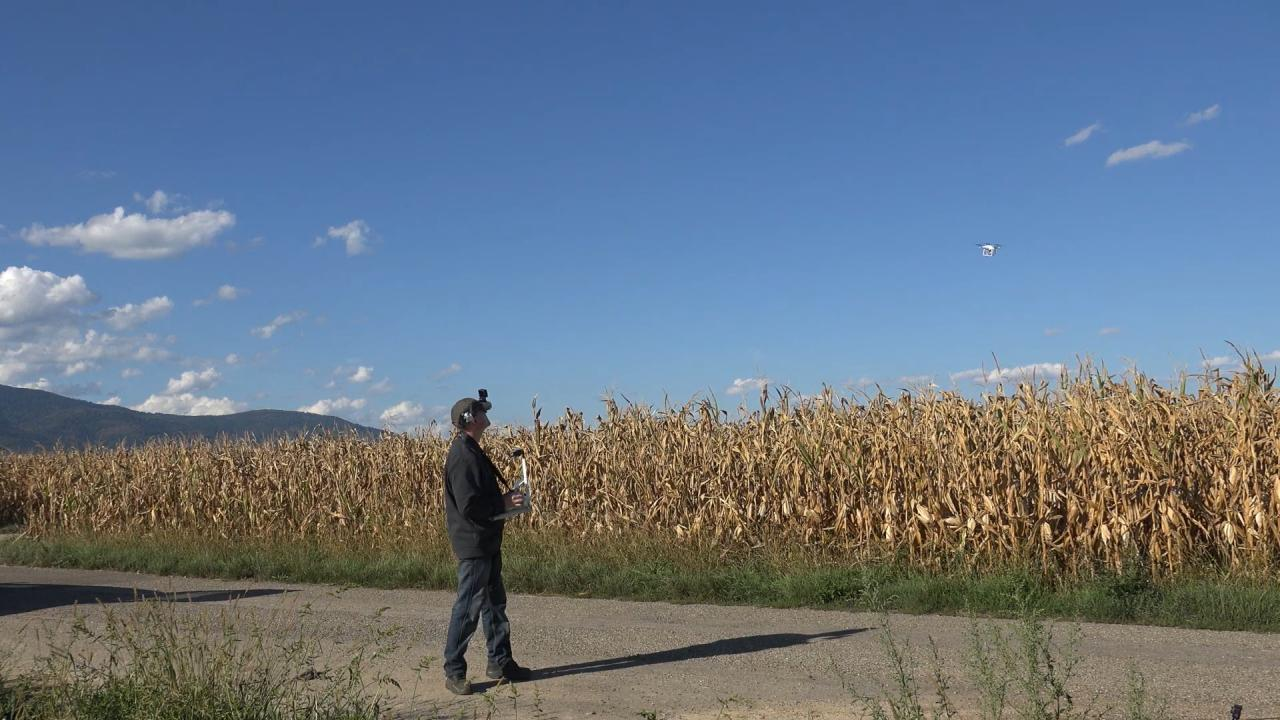Drone: (968, 229, 1010, 268)
